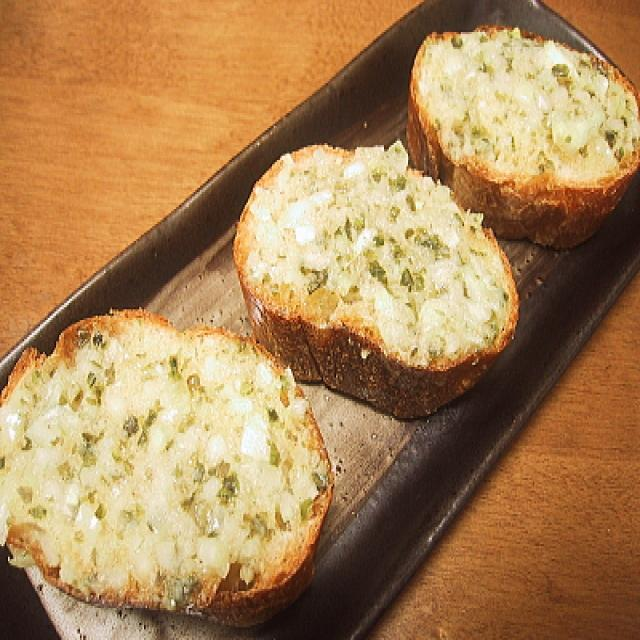面包点心: (0, 11, 640, 632)
